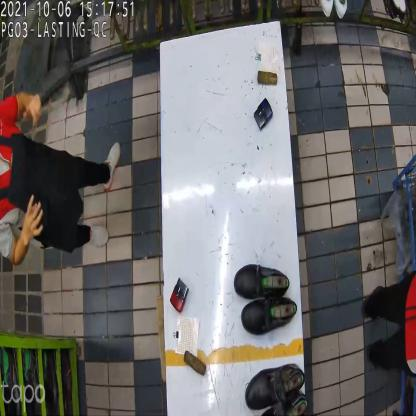shoes: (234, 266, 297, 345), (243, 362, 310, 416)
stamp: (254, 96, 274, 130), (171, 280, 191, 314)
